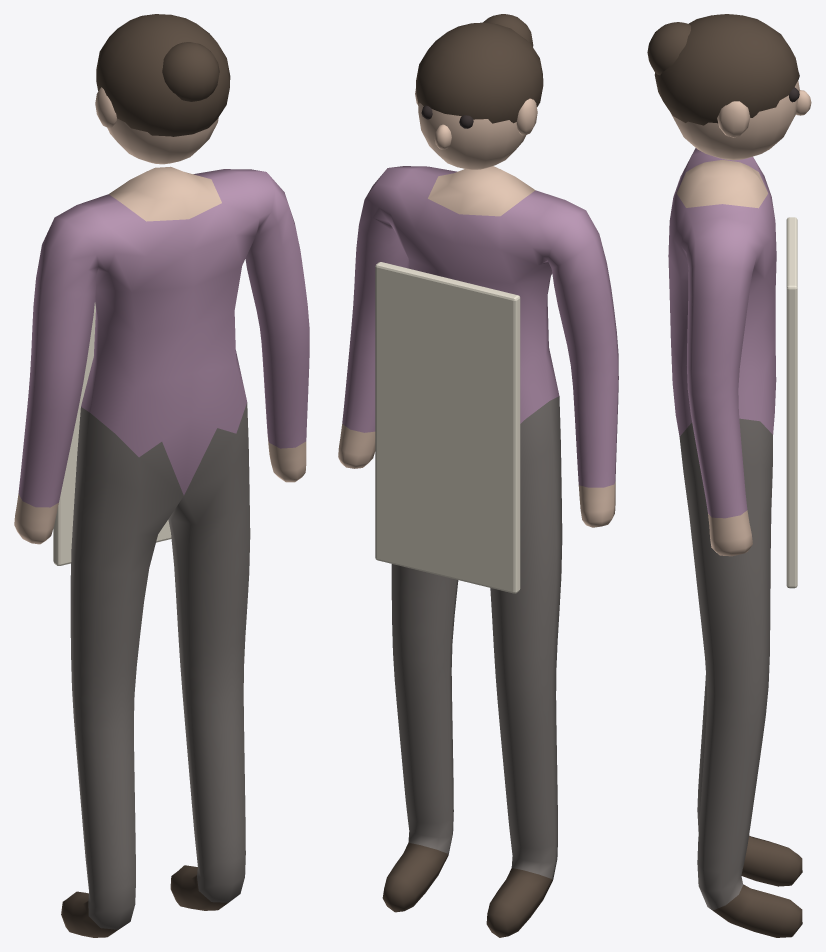
File: Tammy.fbx
3 renders of one model, left to right at view 1: azimuth 30°, elevation 25°; view 2: azimuth 150°, elevation 25°; view 3: azimuth 270°, elevation 25°, orthographic. The views are drawn at different scales.
Visible parts, largest first — view 1: Tammy_Standing; view 2: Tammy_Standing; view 3: Tammy_Standing.
Part boxes in pixels (x1,y1,x2,y2): Tammy_Standing: (14, 14, 309, 937); Tammy_Standing: (338, 14, 618, 937); Tammy_Standing: (647, 14, 811, 937).
Bounding box in the file's own units: 0.5488 × 1.7 × 0.2832.
